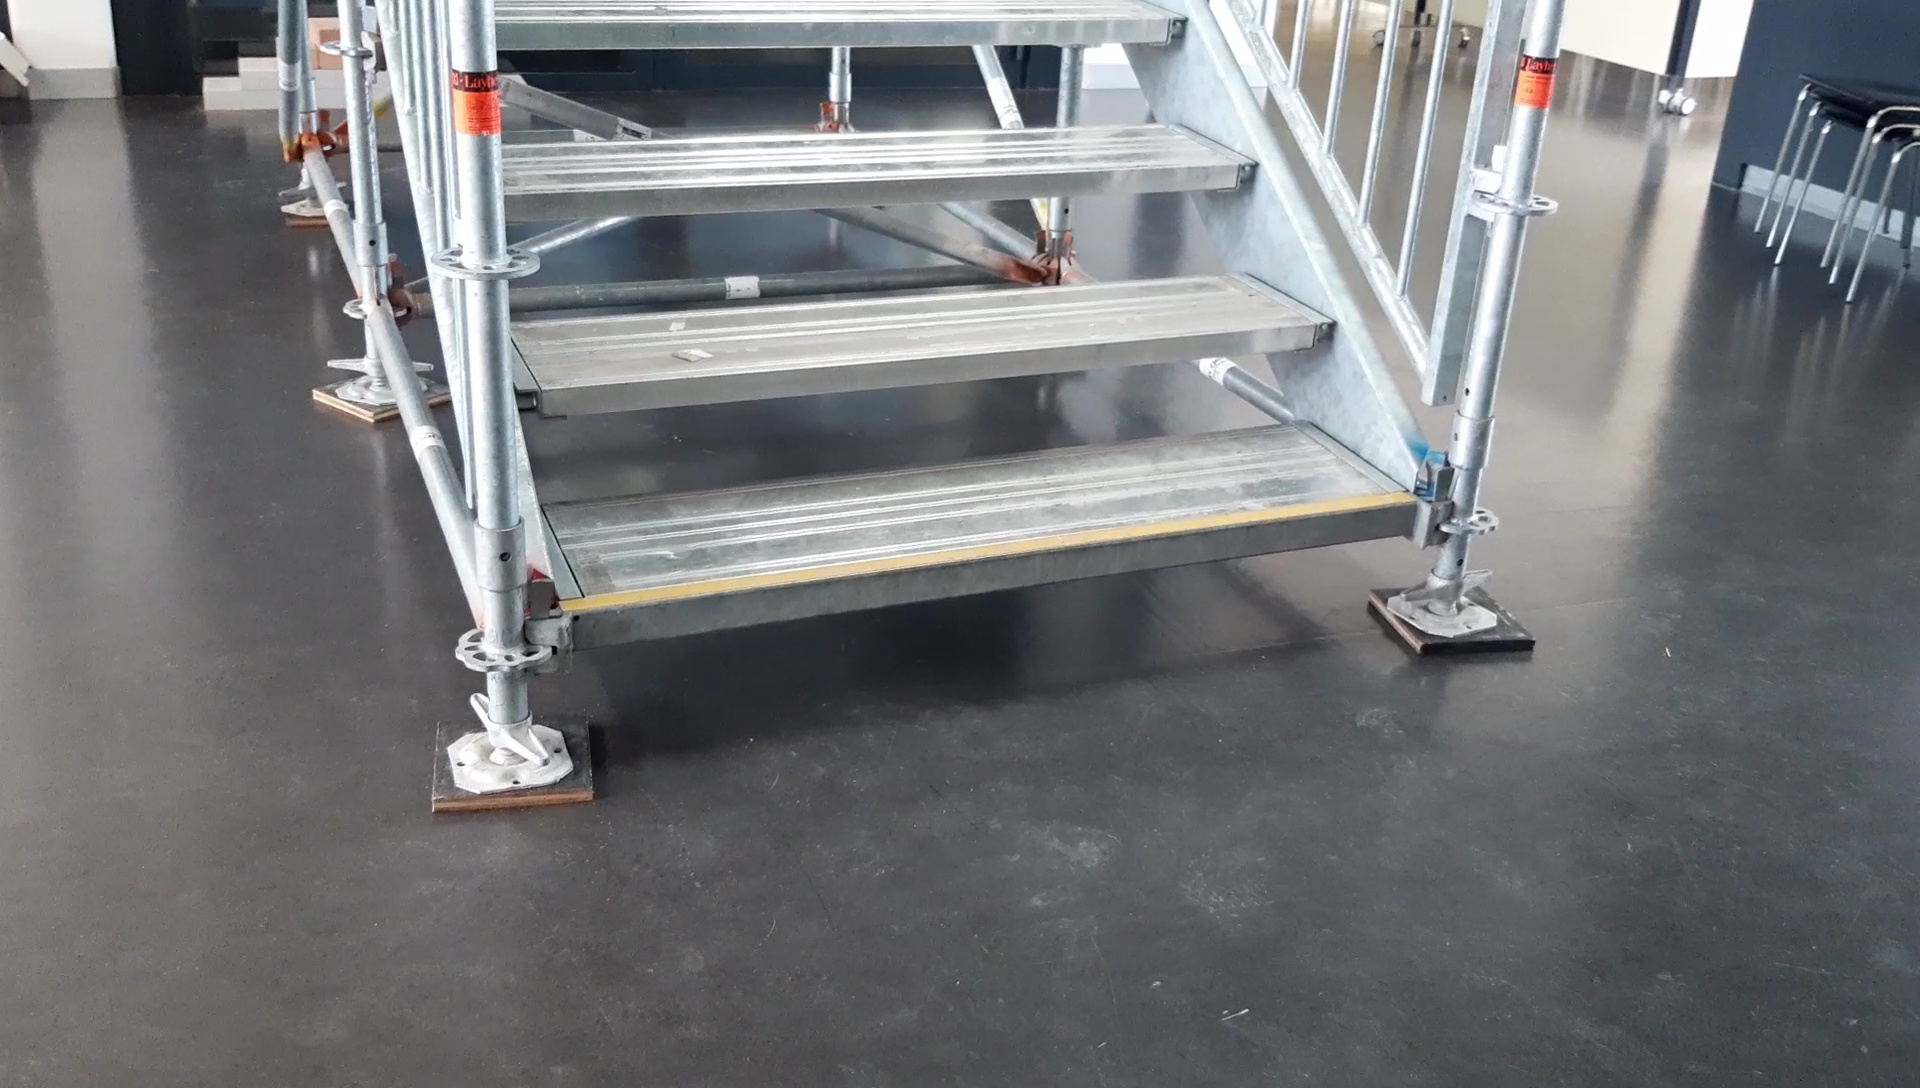edge: (566, 502, 1412, 648), (516, 320, 1337, 415), (502, 161, 1255, 218), (496, 15, 1188, 47)
stairs: (429, 0, 1535, 812)
